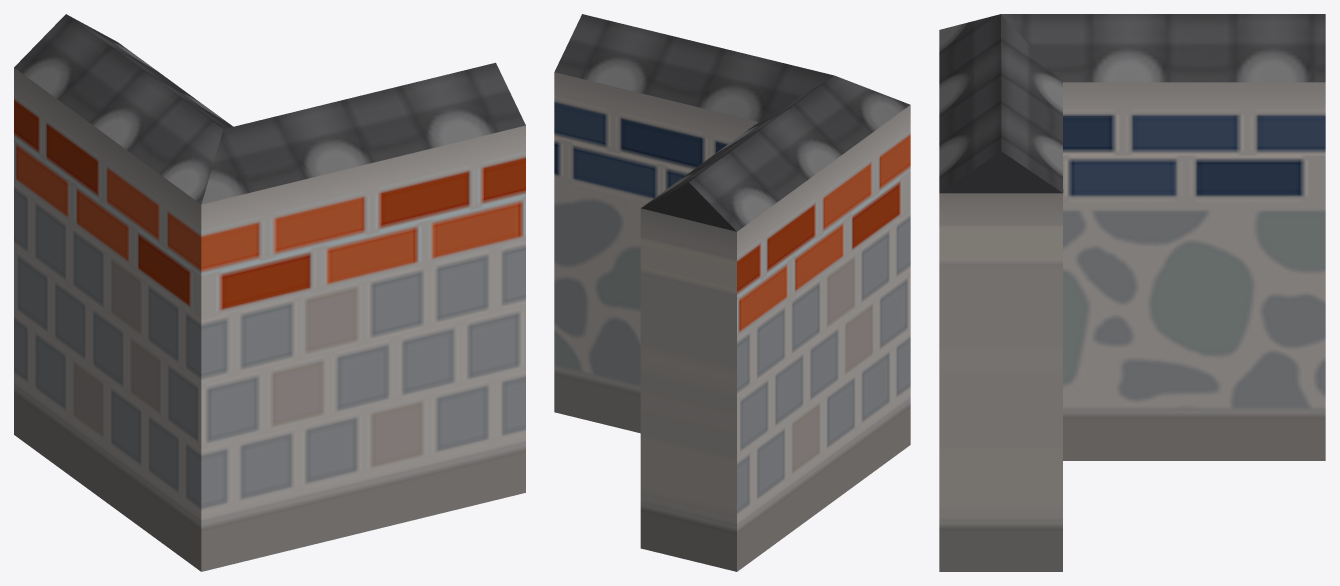
The model's file is Landmark_Bukchon_Fence_03.fbx.
3 views of the same model, side by side, from view 1: azimuth 30°, elevation 25°; view 2: azimuth 150°, elevation 25°; view 3: azimuth 270°, elevation 25° (orthographic). The views are drawn at different scales.
Visible parts, largest first — view 1: Landmark_Bukchon_Fence_03; view 2: Landmark_Bukchon_Fence_03; view 3: Landmark_Bukchon_Fence_03.
Part boxes in pixels (x1,y1,x2,y2): Landmark_Bukchon_Fence_03: (14,14,525,571); Landmark_Bukchon_Fence_03: (554,14,910,571); Landmark_Bukchon_Fence_03: (939,14,1325,571).
Size of the model in its own units: 337 by 405 by 337.
